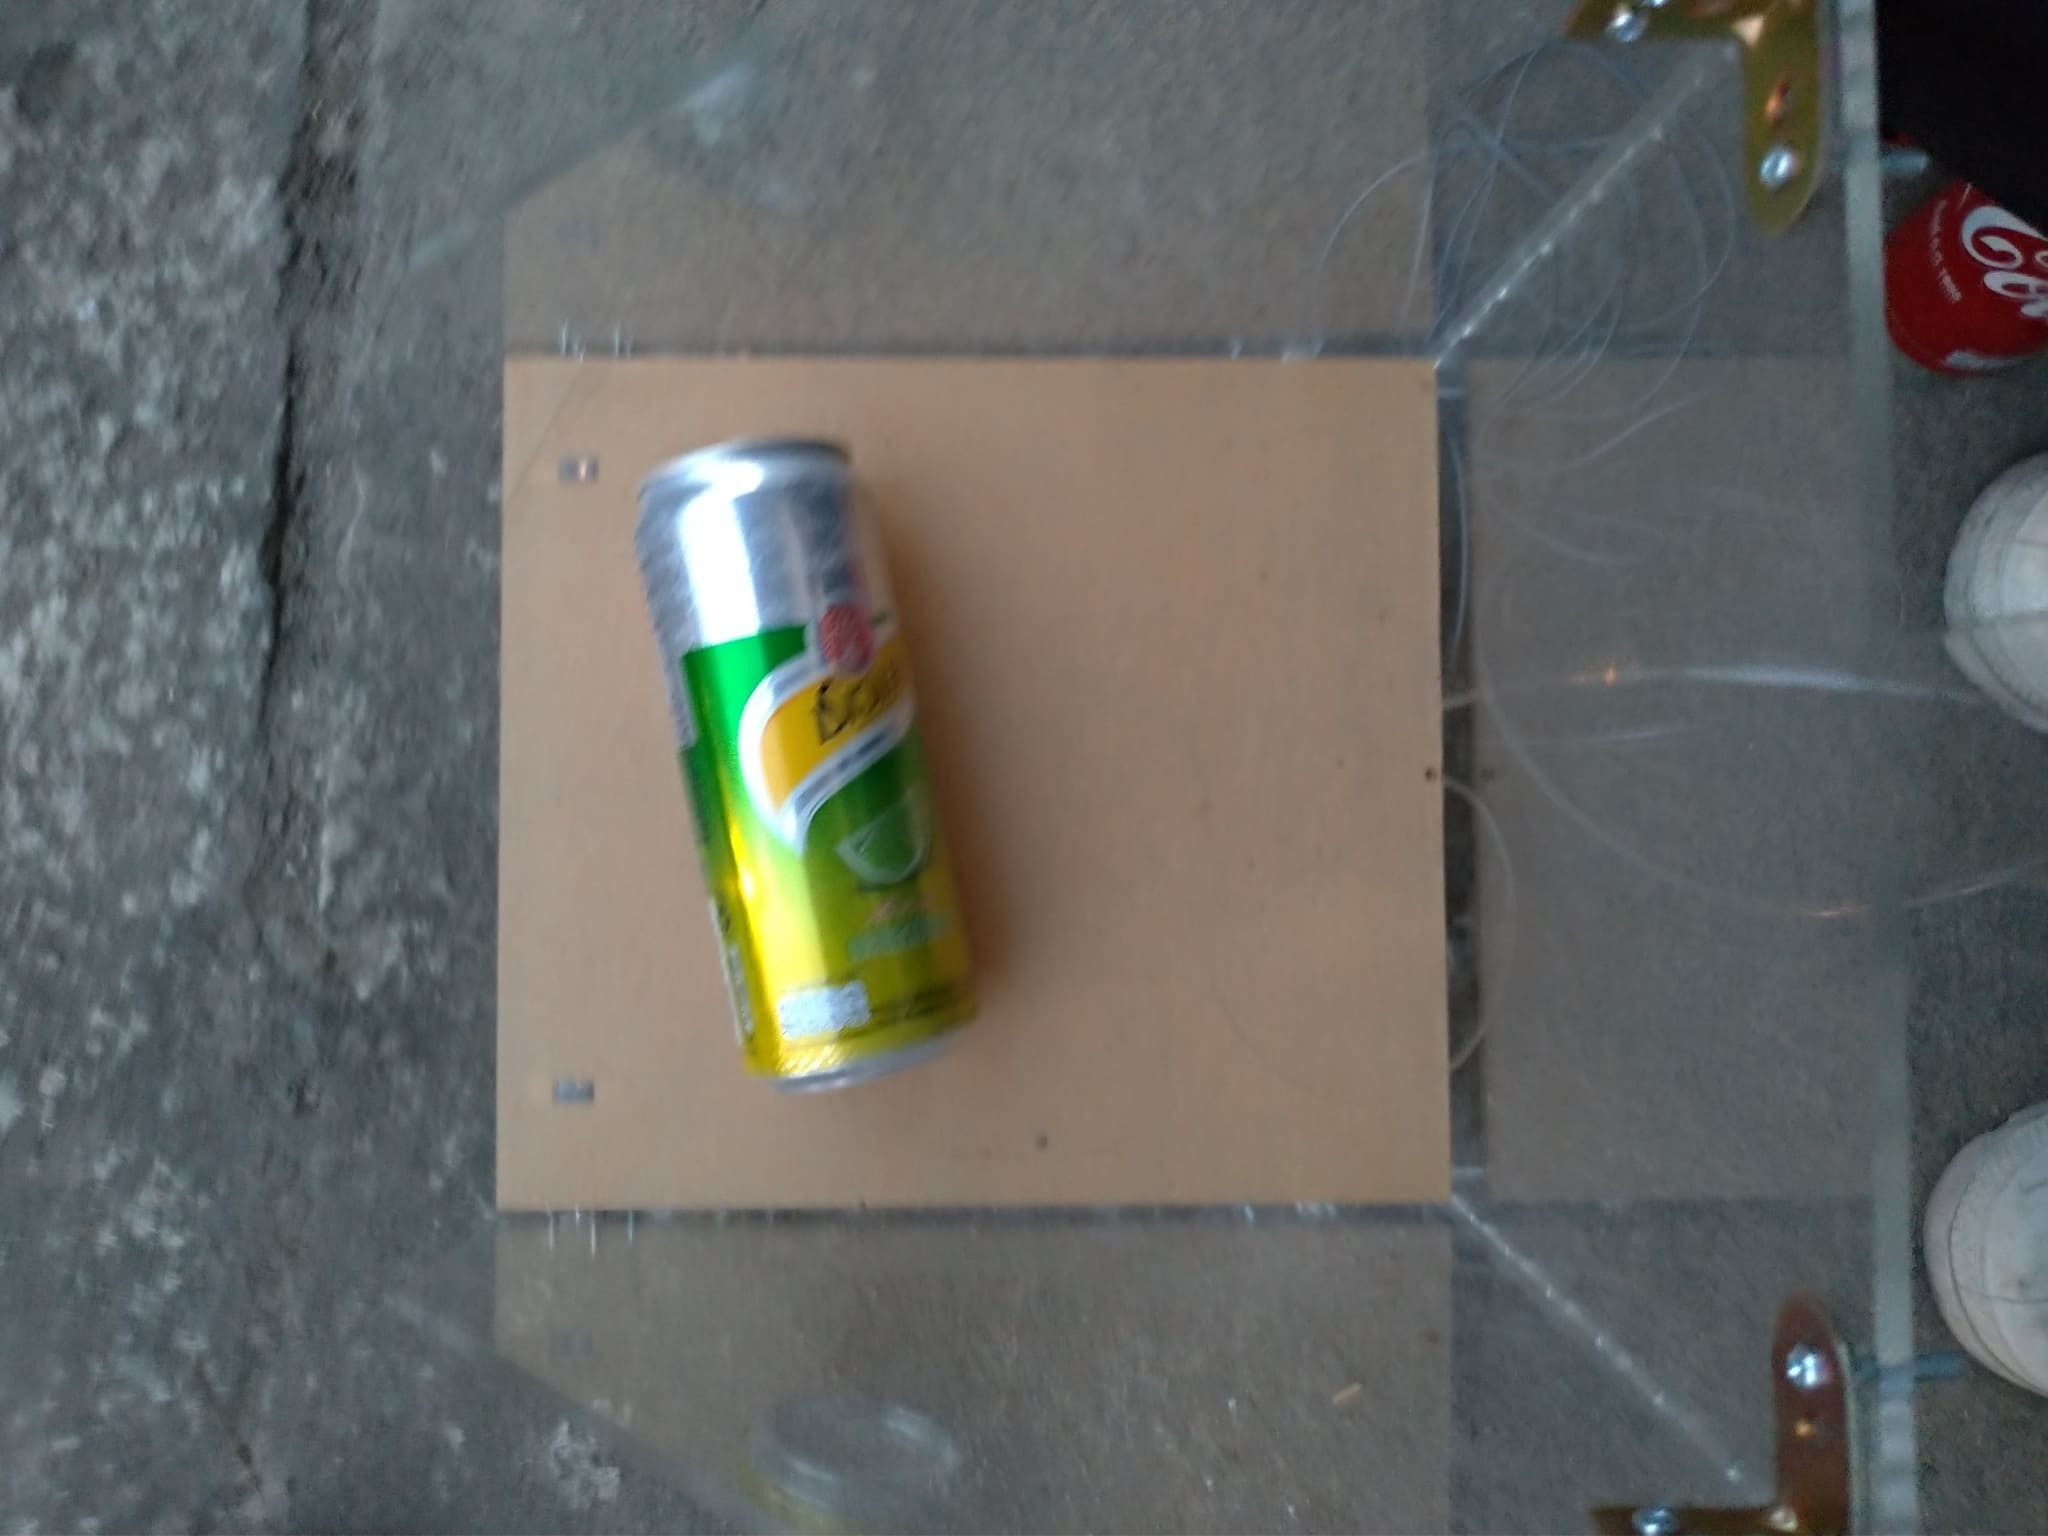AlCan: (629, 432, 985, 1086), (1879, 168, 2048, 386)
